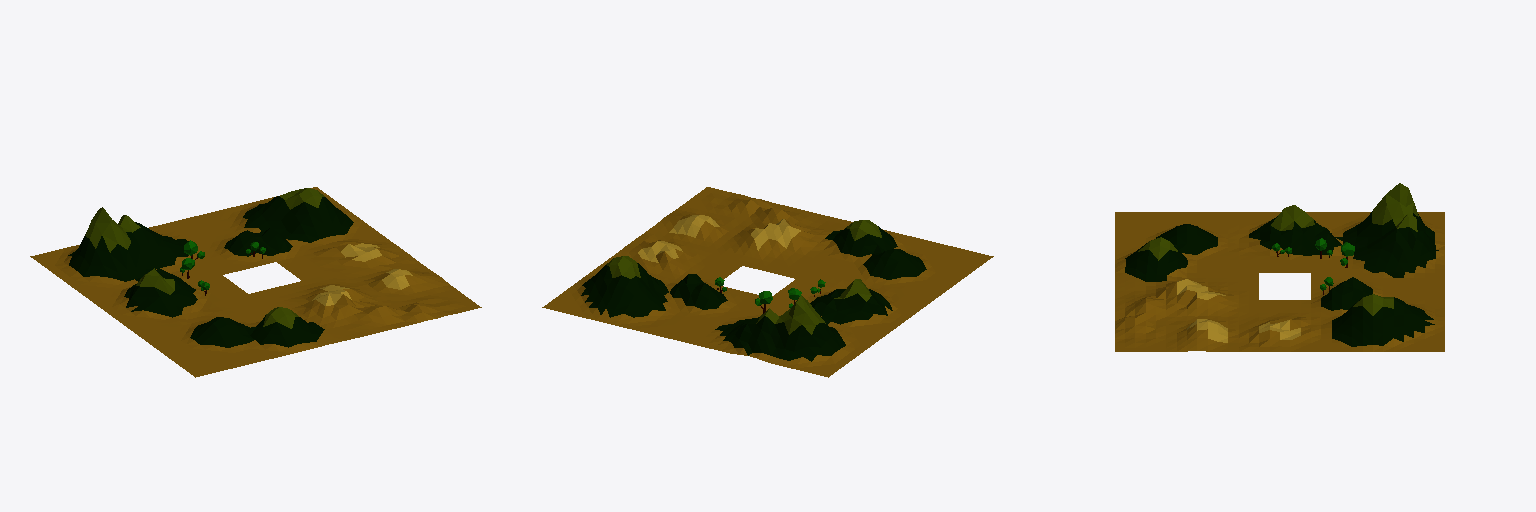
File: ground-surface.obj
The picture shows the model from 3 angles: view 1: azimuth 30°, elevation 25°; view 2: azimuth 150°, elevation 25°; view 3: azimuth 270°, elevation 25°; orthographic projection.
Visible parts, largest first — view 1: Plane; view 2: Plane; view 3: Plane.
Part boxes in pixels (bbox=[...]): Plane: bbox=[30, 187, 481, 377]; Plane: bbox=[542, 187, 993, 377]; Plane: bbox=[1115, 183, 1444, 351].
Size of the model in its own units: 40 by 7.41 by 40.